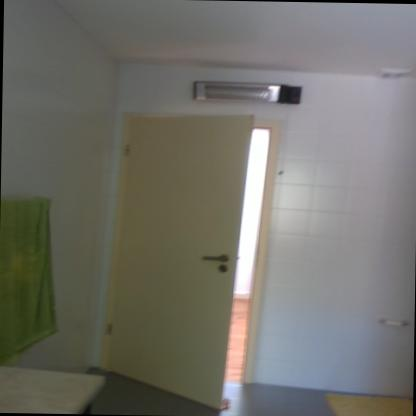semi: (94, 101, 291, 416)
